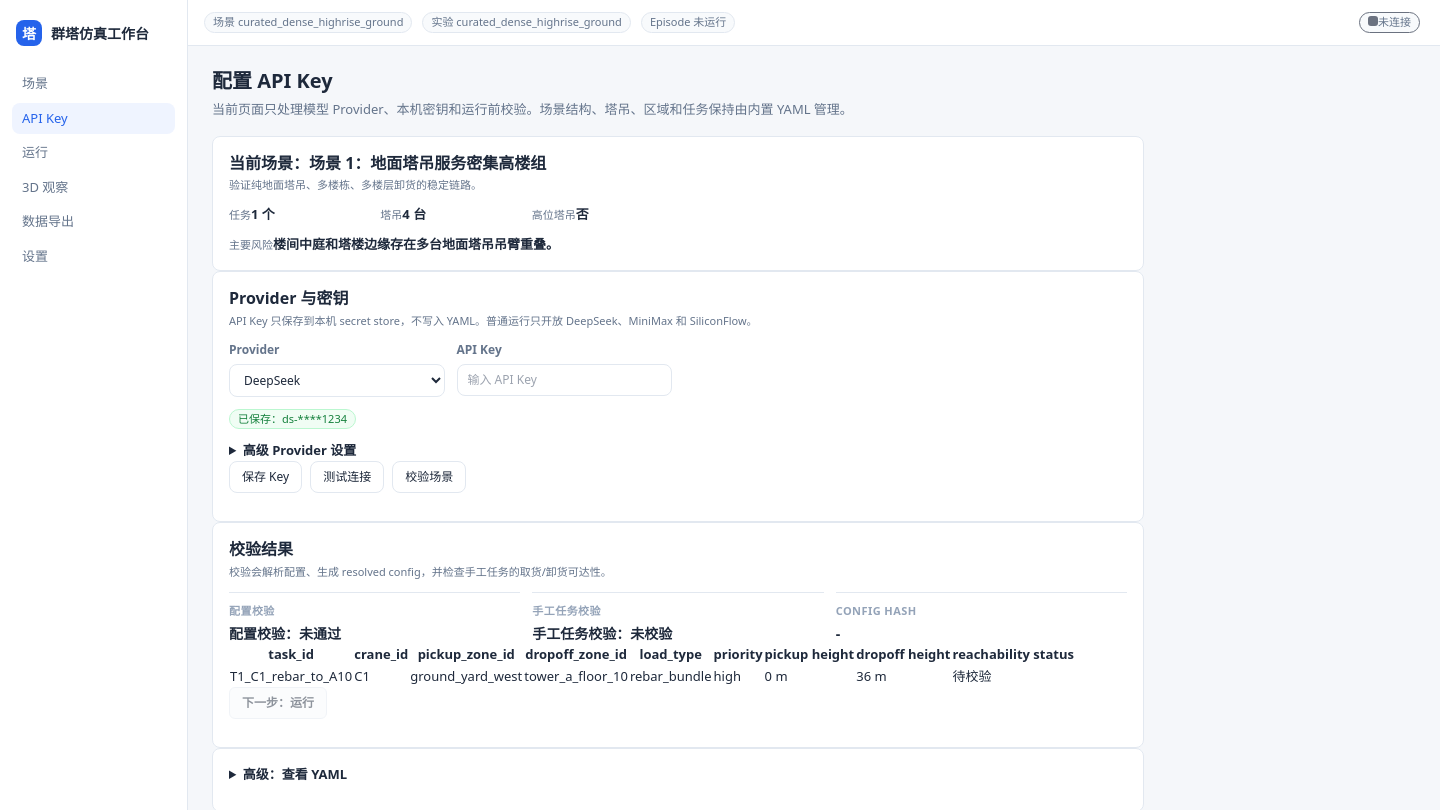
Test: curated workbench flow › saving the current provider key does not rewrite scenario model settings
Check: the text "已保存：ds-****1234" is shown, box [229,409,356,430]
Step 1. Type "sk-new-deepseek-key-123456" into the password field labelled "API Key" → (564, 380), box [456,364,672,396]
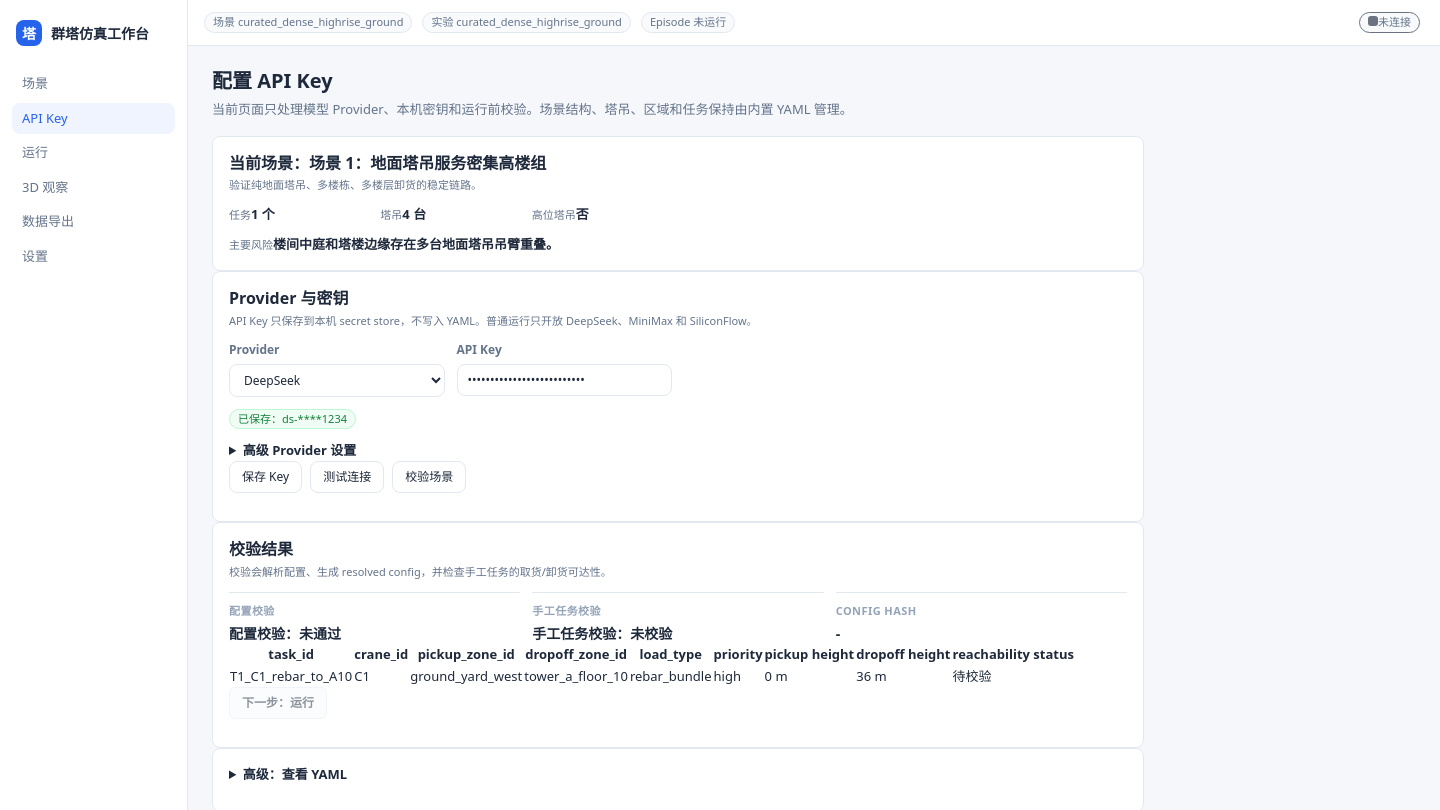
Step 2. Click the button "保存 Key" → (266, 477), box [229,461,302,493]
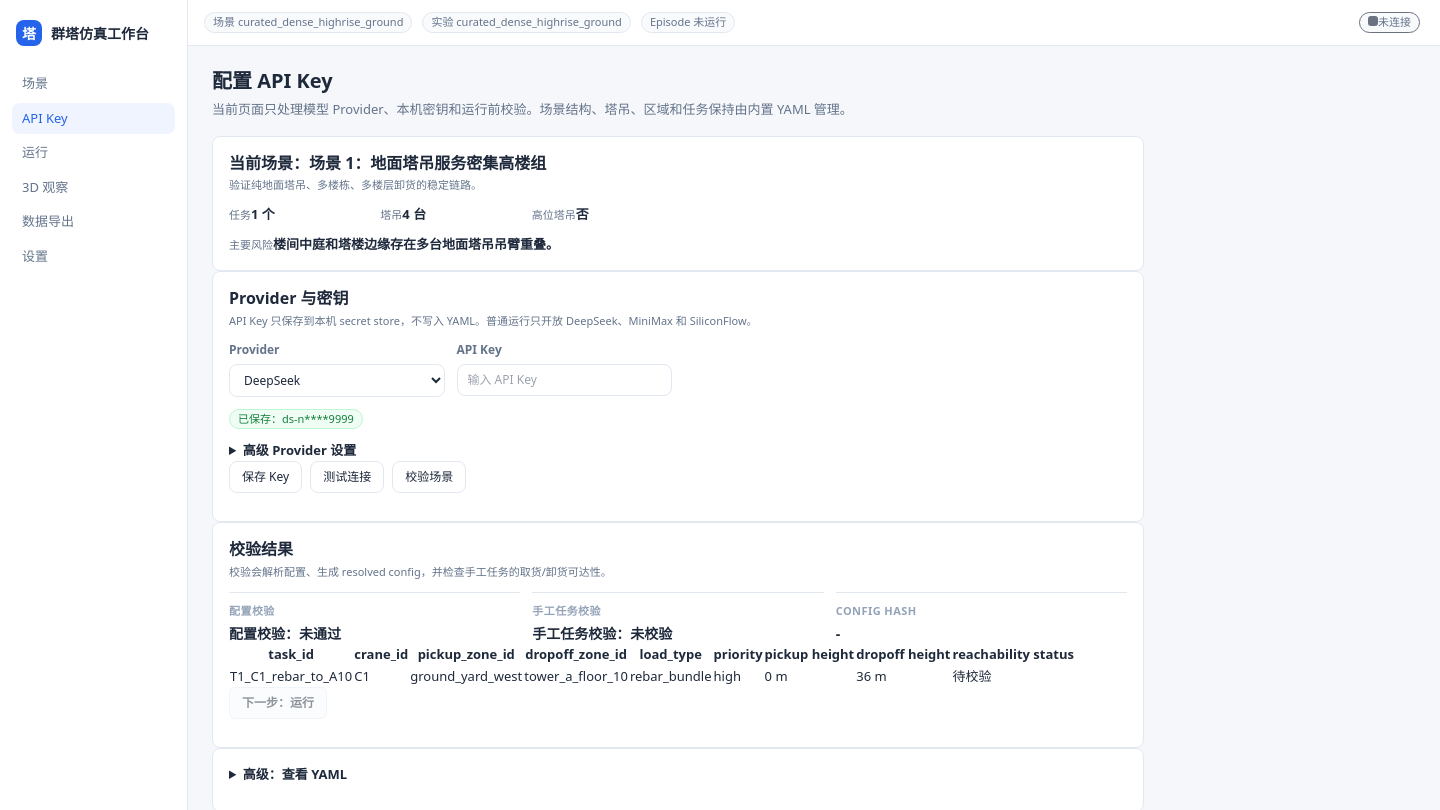
Check: the text "已保存：ds-n****9999" is shown, box [229,409,363,430]
